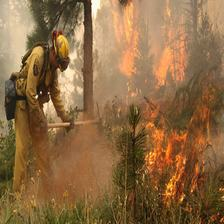fire: (102, 4, 213, 208)
